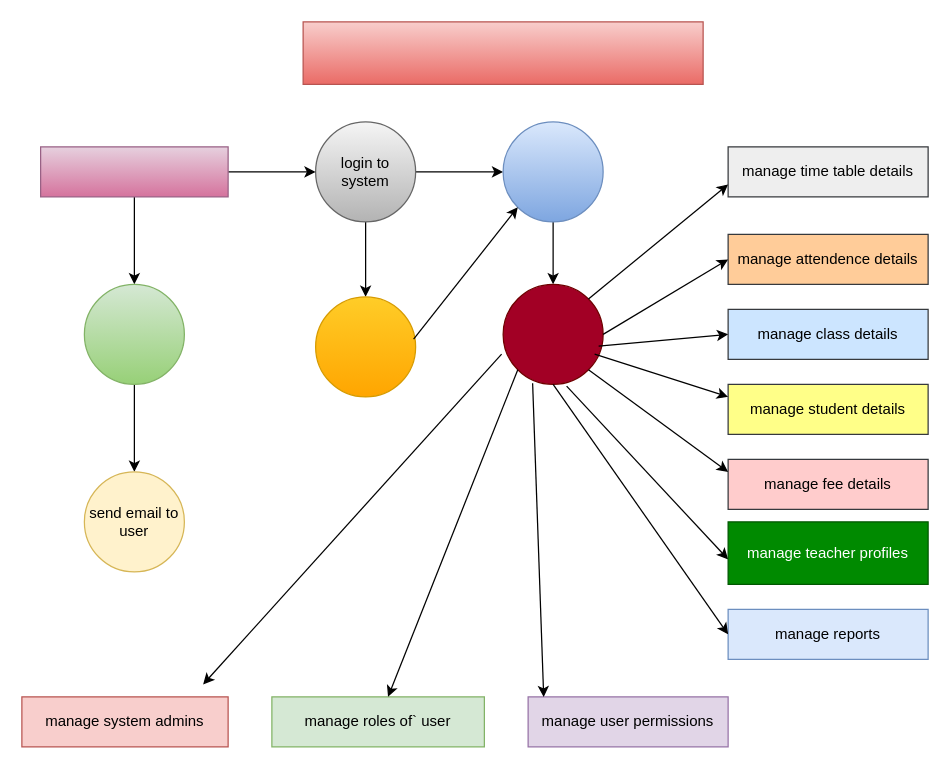
This 950x769 diagram has some shape labels left out. Each missing label, with the box of its shape:
admin: (39, 146, 228, 197)
check credentials: (314, 296, 416, 397)
check roles of access: (502, 121, 603, 222)
forgot password: (83, 283, 184, 384)
manage modules: (502, 283, 603, 384)
Student Information System: (302, 21, 703, 84)
